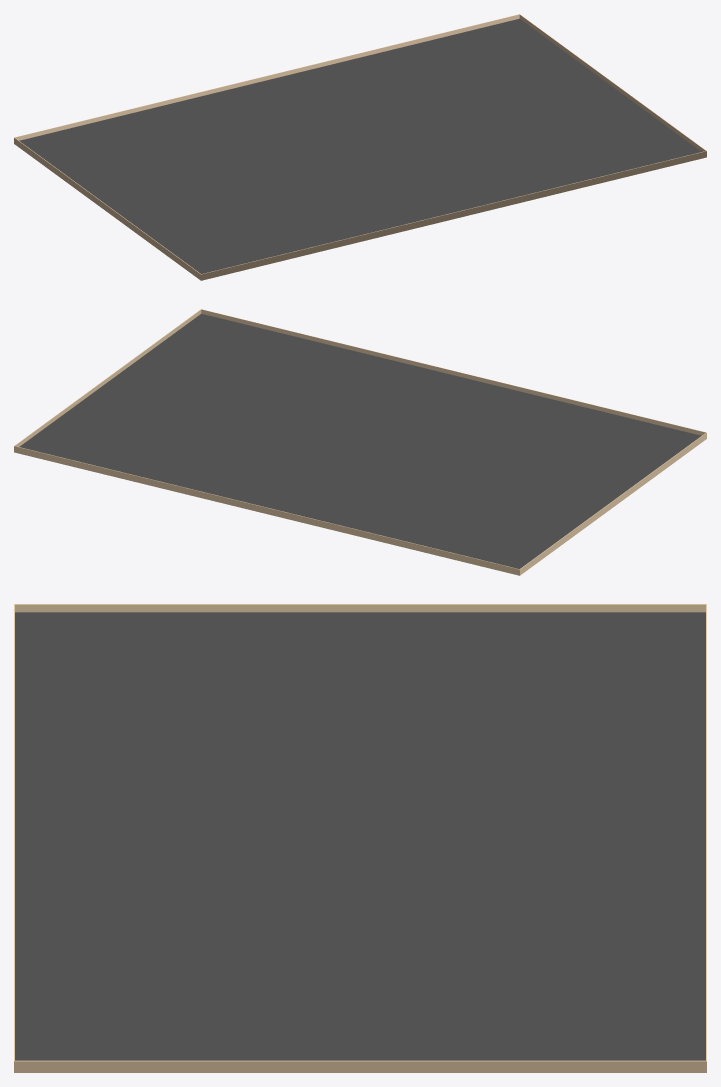
The model's file is arena_rectangle_2.obj.
3 renders of one model, top to bottom at view 1: azimuth 30°, elevation 25°; view 2: azimuth 150°, elevation 25°; view 3: azimuth 270°, elevation 25°, orthographic. The views are drawn at different scales.
Bounding box in the file's own units: 250 × 3 × 160.
Materials: 1 (1 with a texture image).
